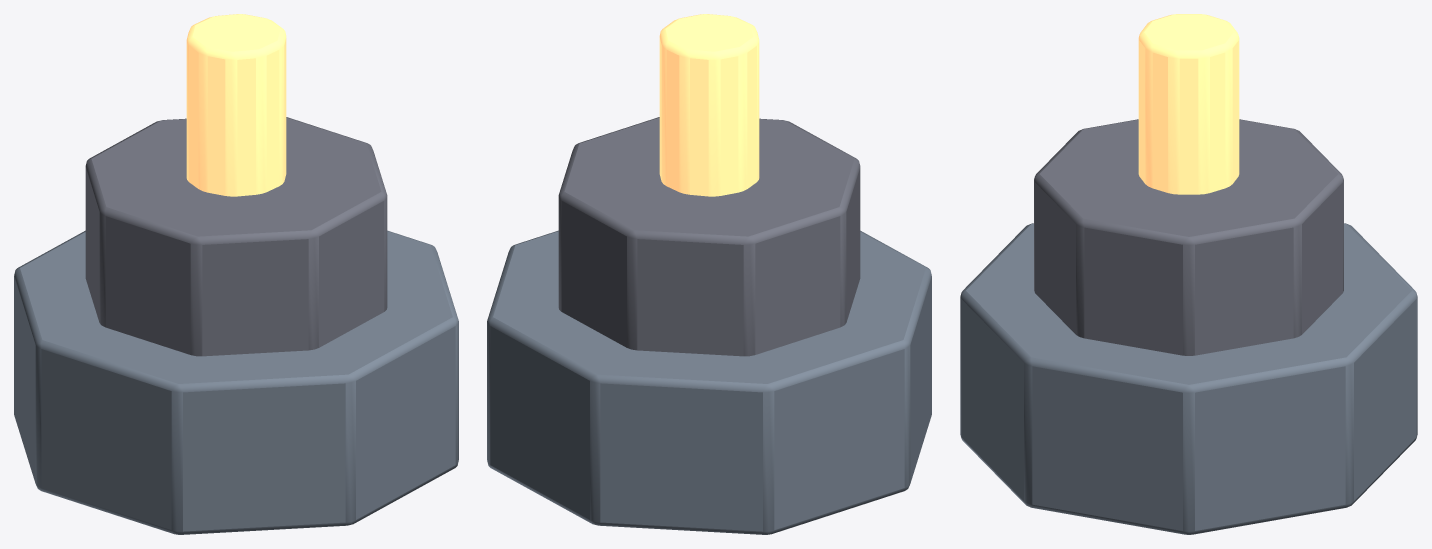
The model's file is cannontower.glb.
3 renders of one model, left to right at view 1: azimuth 30°, elevation 25°; view 2: azimuth 150°, elevation 25°; view 3: azimuth 270°, elevation 25°, orthographic.
Visible parts, largest first — view 1: Base, ArmoredBody, Barrel; view 2: Base, ArmoredBody, Barrel; view 3: Base, ArmoredBody, Barrel.
Boxes of the visible parts, left/top/right/bottom form: Base: left=14, top=230, right=458, bottom=534; ArmoredBody: left=85, top=117, right=387, bottom=356; Barrel: left=186, top=14, right=286, bottom=196; Base: left=487, top=230, right=931, bottom=534; ArmoredBody: left=558, top=117, right=860, bottom=356; Barrel: left=659, top=14, right=759, bottom=196; Base: left=960, top=223, right=1417, bottom=534; ArmoredBody: left=1034, top=119, right=1343, bottom=355; Barrel: left=1138, top=14, right=1239, bottom=194.
Bounding box in the file's own units: 2.48 × 2.45 × 2.48.
